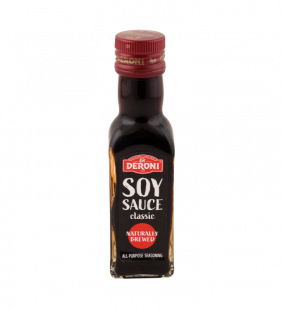DERONI: (102, 24, 180, 284)
